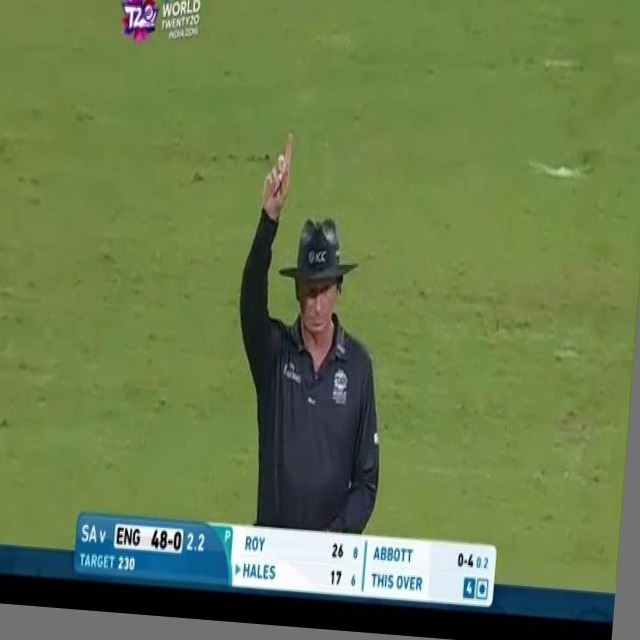Out: (218, 119, 414, 537)
